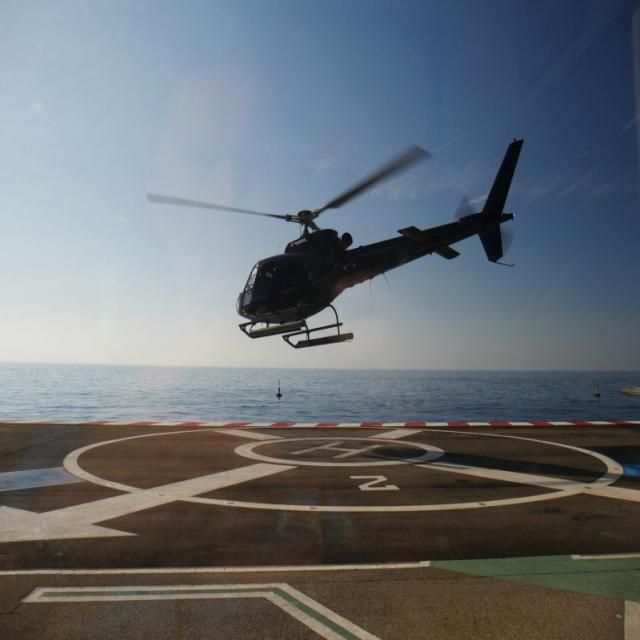helipad: (230, 433, 446, 470)
